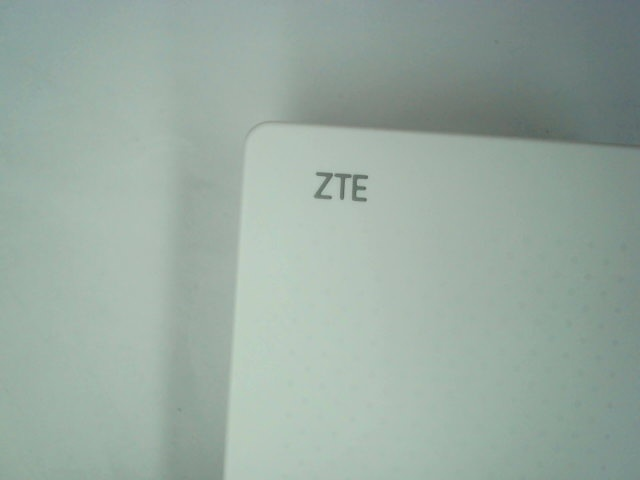AN_ZTE: (307, 168, 379, 204)
